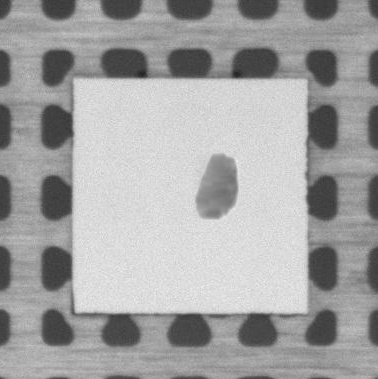DIE_INK: (196, 155, 242, 218)
